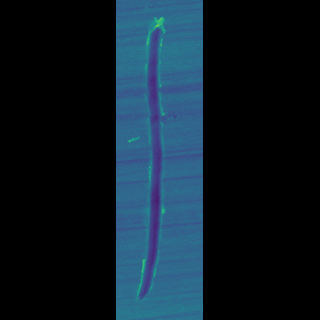Loch: (153, 13, 163, 303), (151, 131, 155, 144)
